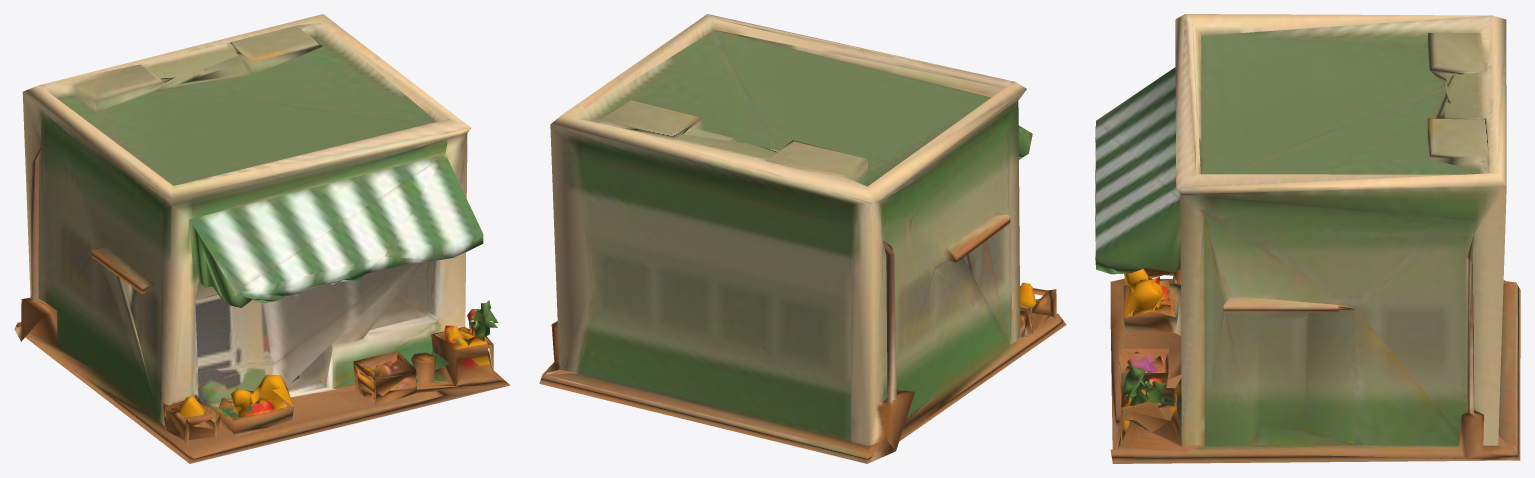
File: grocery-512.glb
The picture shows the model from 3 angles, left to right: view 1: azimuth 30°, elevation 25°; view 2: azimuth 150°, elevation 25°; view 3: azimuth 270°, elevation 25°; orthographic projection. The views are drawn at different scales.
Size of the model in its own units: 1.89 by 1.39 by 1.89.
1 material, 1 textured.
